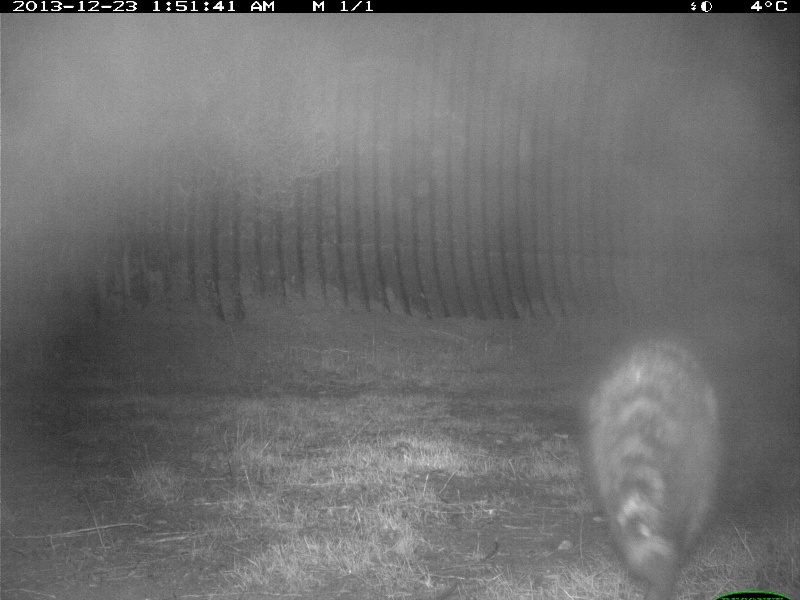raccoon: (581, 325, 726, 584)
